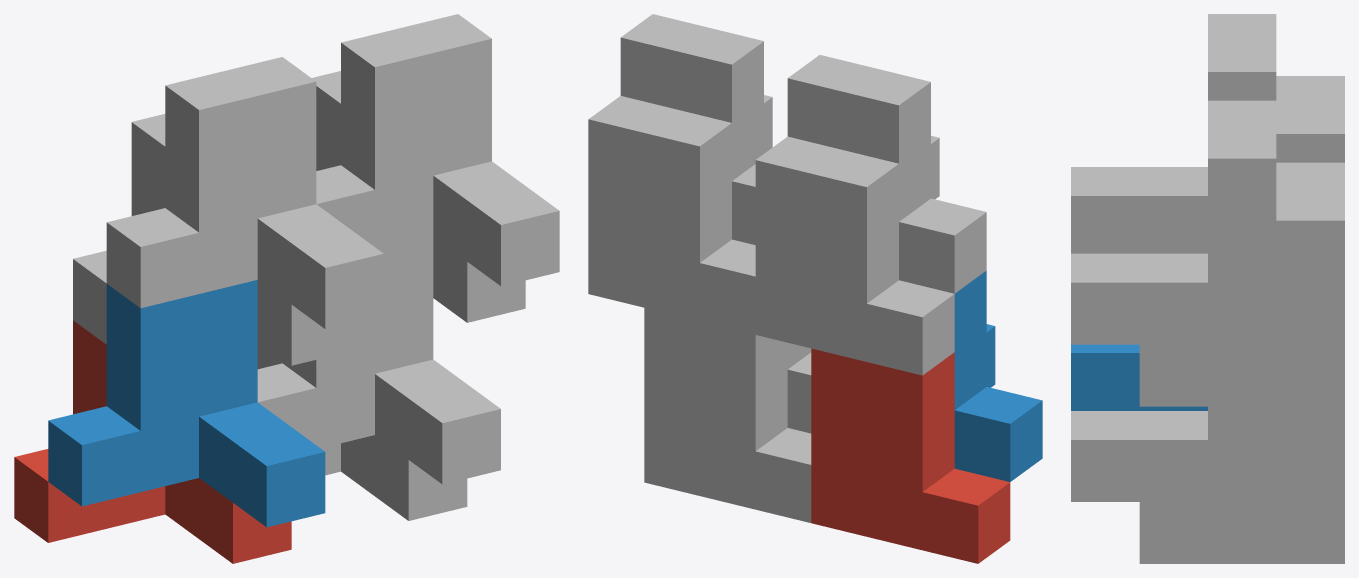
Rendered from tiling.obj.
The picture shows the model from 3 angles, left to right: view 1: azimuth 30°, elevation 25°; view 2: azimuth 150°, elevation 25°; view 3: azimuth 270°, elevation 25°; orthographic projection. The views are drawn at different scales.
Visible parts, largest first — view 1: copy_1_domain_4, copy_1_domain_2, copy_1_domain_8, copy_1_domain_6, copy_1_domain_1, copy_1_domain_3, copy_1_domain_5, copy_1_domain_7; view 2: copy_1_domain_3, copy_1_domain_7, copy_1_domain_1, copy_1_domain_5, copy_1_domain_4, copy_1_domain_8, copy_1_domain_2, copy_1_domain_6; view 3: copy_1_domain_8, copy_1_domain_7, copy_1_domain_5, copy_1_domain_6, copy_1_domain_4, copy_1_domain_3, copy_1_domain_2.
Boxes of the visible parts, x1,y1,x2,y2 form: copy_1_domain_4: (106,57,383,329); copy_1_domain_2: (48,280,325,527); copy_1_domain_8: (316,14,559,286); copy_1_domain_6: (257,237,500,484); copy_1_domain_1: (14,320,291,563); copy_1_domain_3: (73,114,349,365); copy_1_domain_5: (257,341,467,520); copy_1_domain_7: (312,71,525,322); copy_1_domain_3: (755,136,954,375); copy_1_domain_7: (588,96,755,334); copy_1_domain_1: (811,348,1010,563); copy_1_domain_5: (644,308,811,522); copy_1_domain_4: (787,55,986,293); copy_1_domain_8: (620,14,772,244); copy_1_domain_2: (954,270,1042,481); copy_1_domain_6: (787,343,811,433); copy_1_domain_8: (1071,100,1276,344); copy_1_domain_7: (1139,162,1344,406); copy_1_domain_5: (1139,406,1344,563); copy_1_domain_6: (1071,406,1276,501); copy_1_domain_4: (1071,14,1276,253); copy_1_domain_3: (1276,76,1344,162); copy_1_domain_2: (1071,344,1207,410).
Size of the model in its own units: 7 by 7 by 4.
